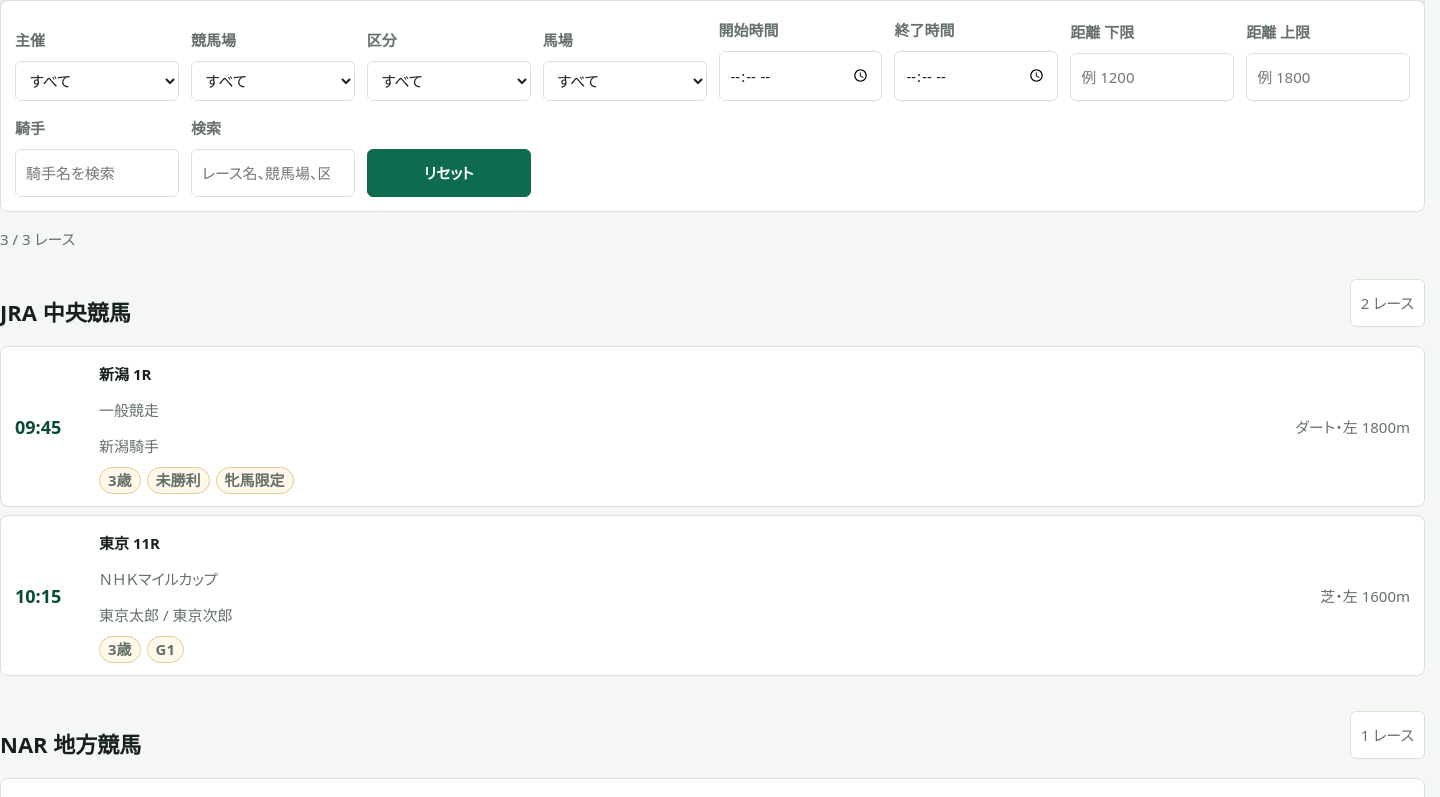
Test: race date filter › filters by surface and distance range when JRA races are present
Select "芝" in the dropdown labelled "馬場" at (625, 81), box x1=543 y1=61 x2=706 y2=101
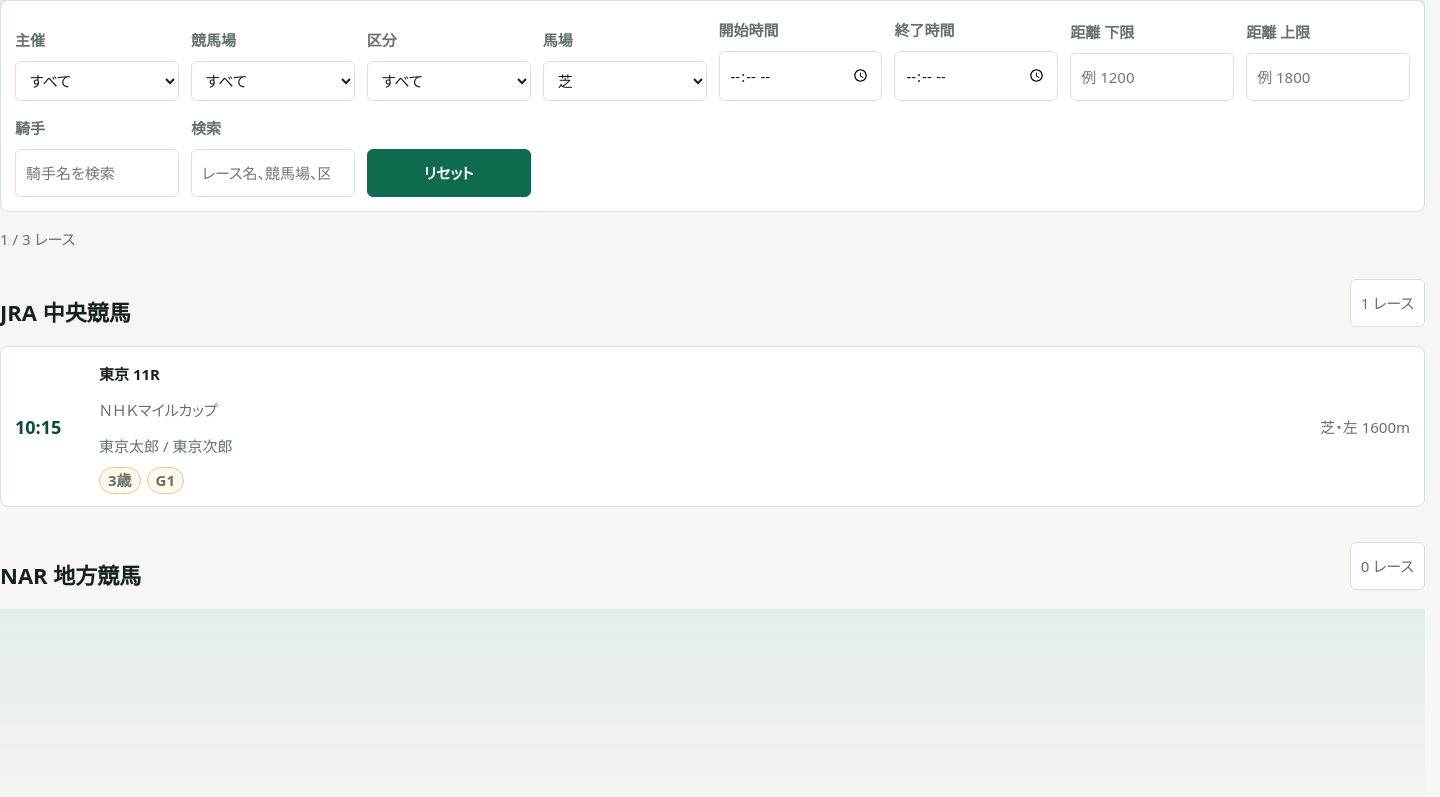
Expected: the text "ＮＨＫマイルカップ" is shown, x1=99 y1=400 x2=218 y2=420
Expected: the text "1 / 3 レース" is shown, x1=0 y1=229 x2=75 y2=249
Select "すべて" in the dropdown labelled "馬場" at (625, 81), box x1=543 y1=61 x2=706 y2=101
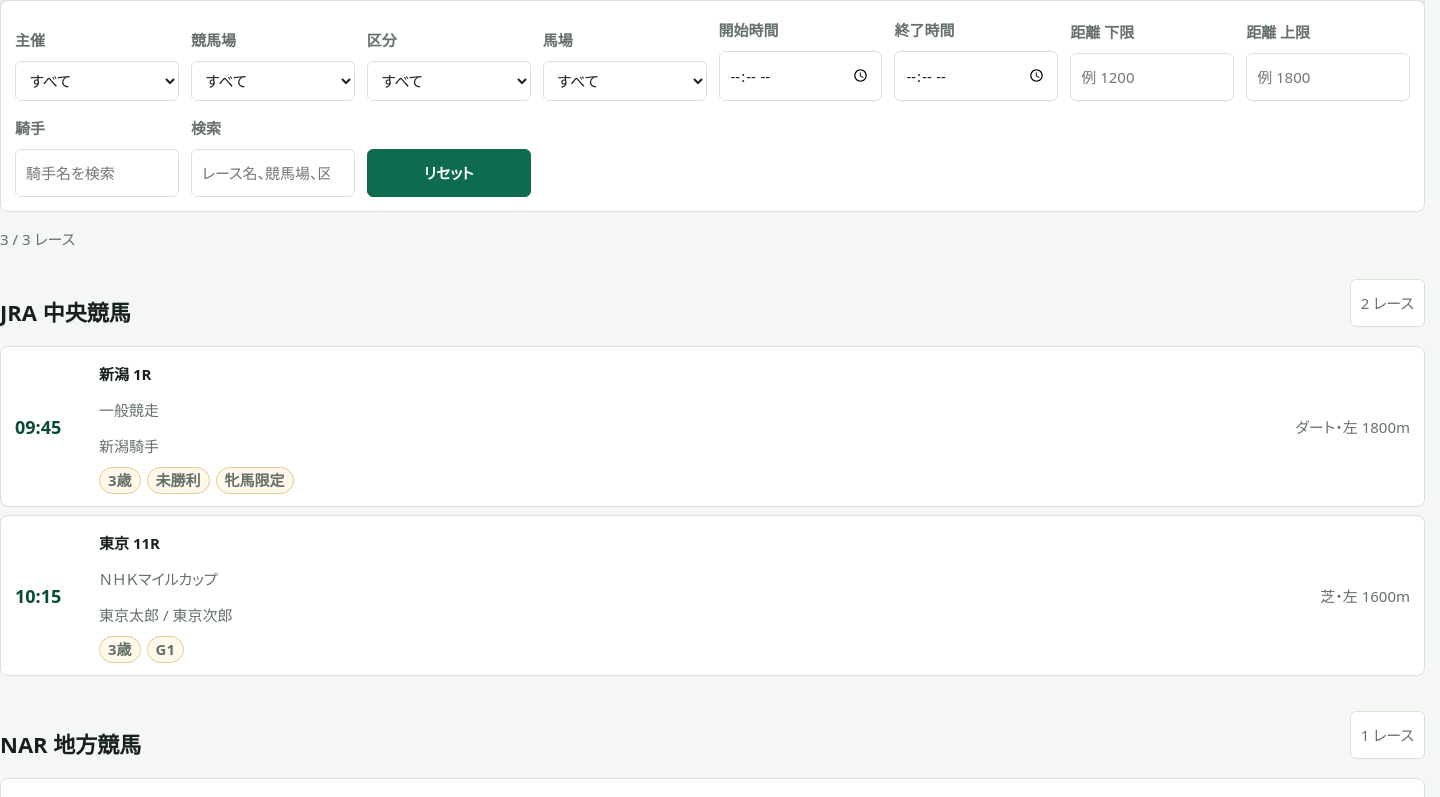
Type "1500" into the number field labelled "距離 下限".
click(1152, 77); type("1500")  # box x1=1070 y1=53 x2=1234 y2=101
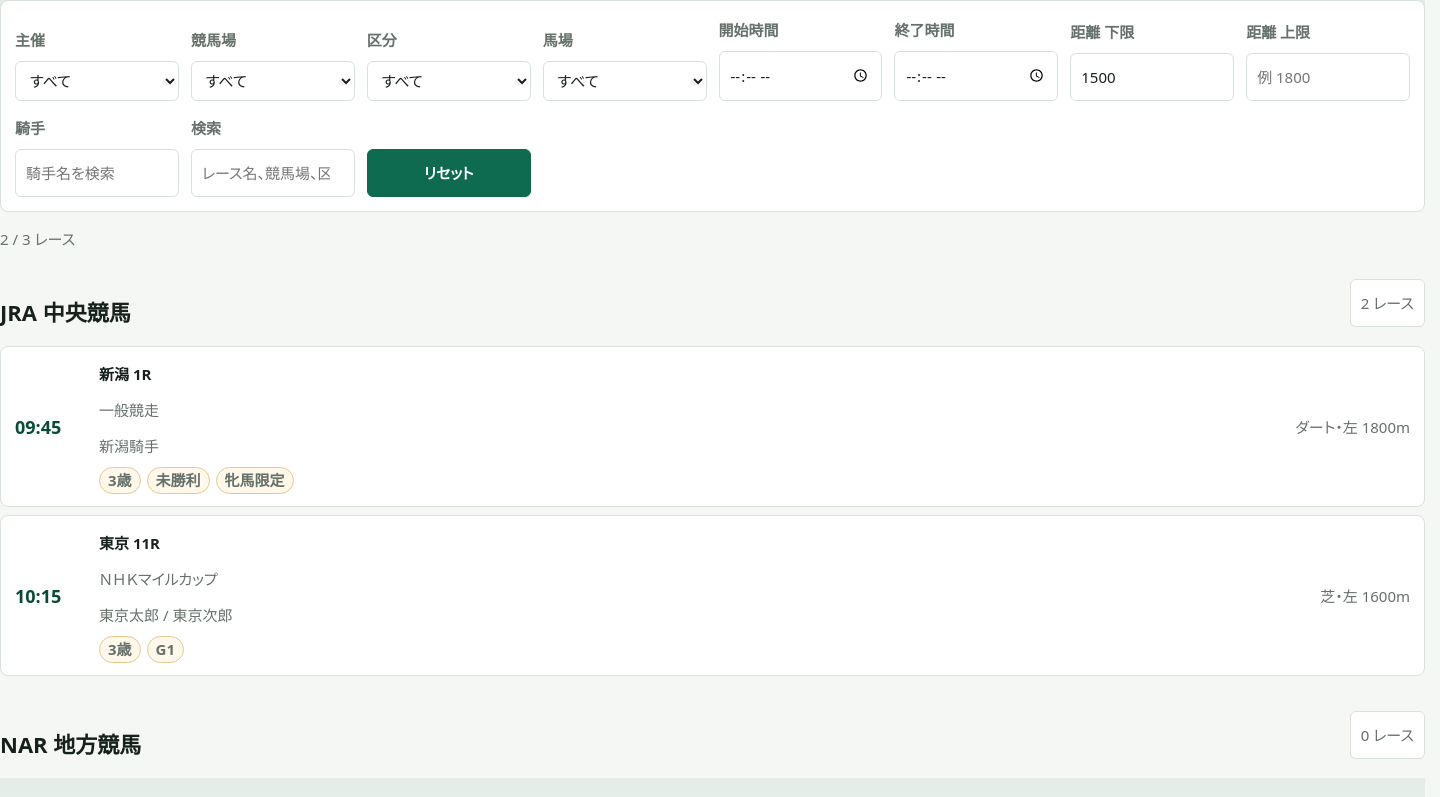
Type "1700" into the number field labelled "距離 上限".
click(1328, 77); type("1700")  # box x1=1246 y1=53 x2=1410 y2=101
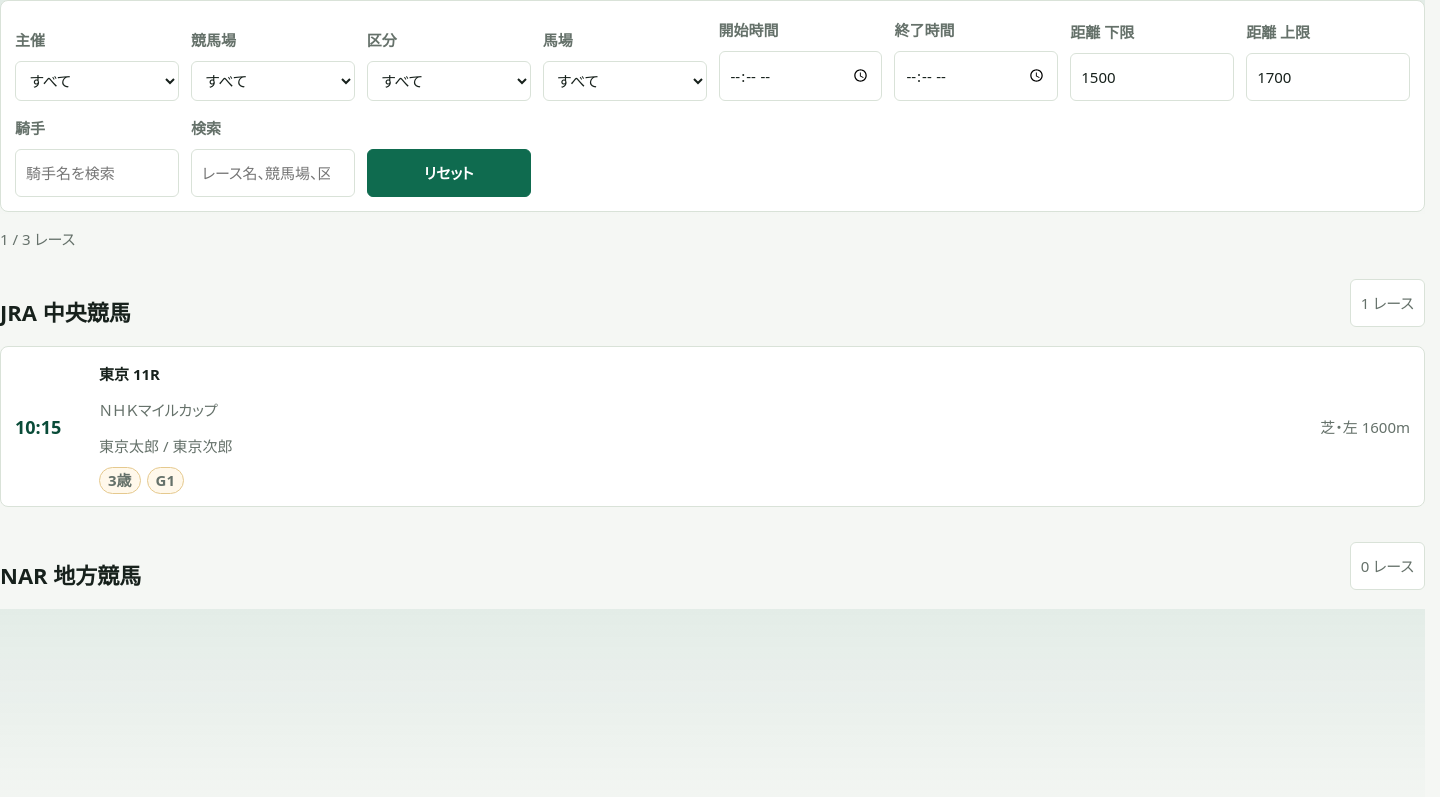
Expected: the text "ＮＨＫマイルカップ" is shown, x1=99 y1=400 x2=218 y2=420
Expected: the text "1 / 3 レース" is shown, x1=0 y1=229 x2=75 y2=249
Expected: the link "一般競走" is gone
